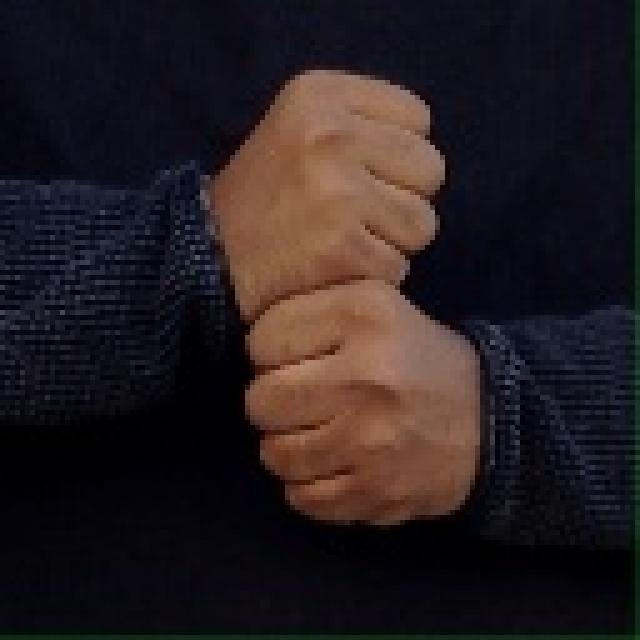Alphabet-g: (202, 46, 488, 536)
